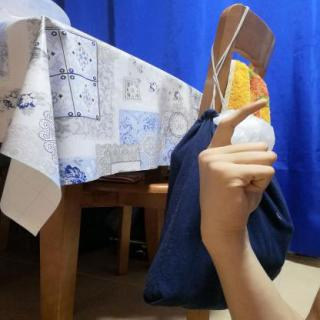RAA: (185, 93, 284, 229)
